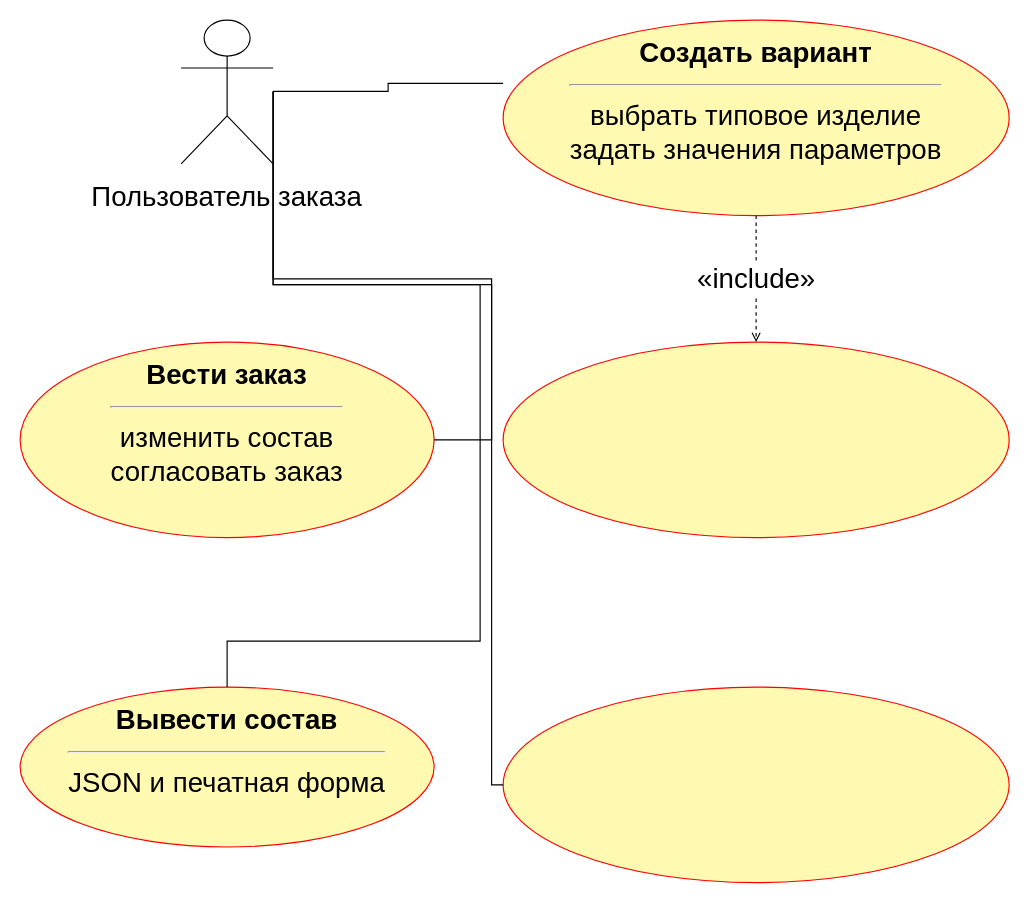
The diagram is 1029 pixels wide and 903 high, and some of its shapes have lost their labels. Each missing label, with the box of its shape:
Калькуляция маршруты конкретных изделий; прейскурант №6: (502, 686, 1009, 883)
Проверить ограничения «include» при создании и по отдельному запросу: (502, 341, 1009, 538)
